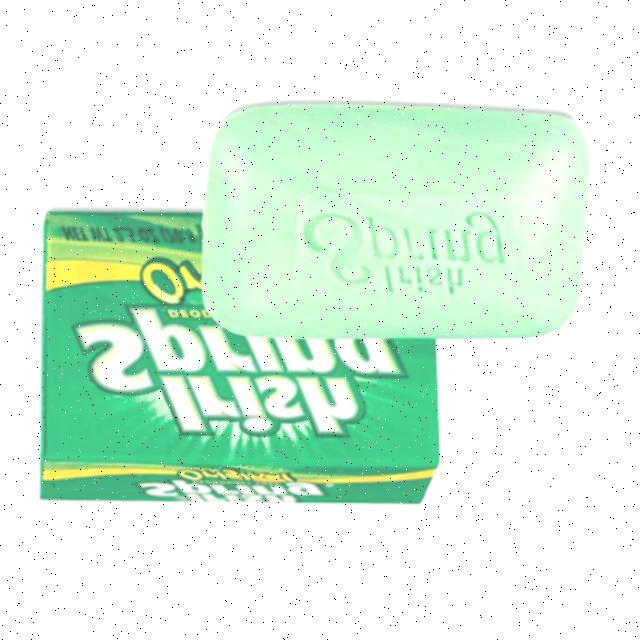soap: (191, 98, 600, 348)
